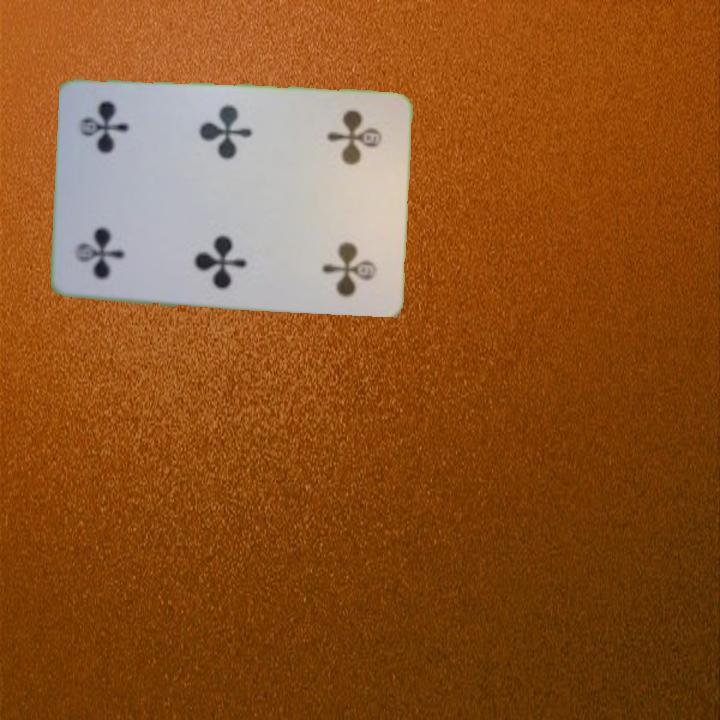c_6.png: (66, 185, 156, 289), (306, 103, 396, 206)
